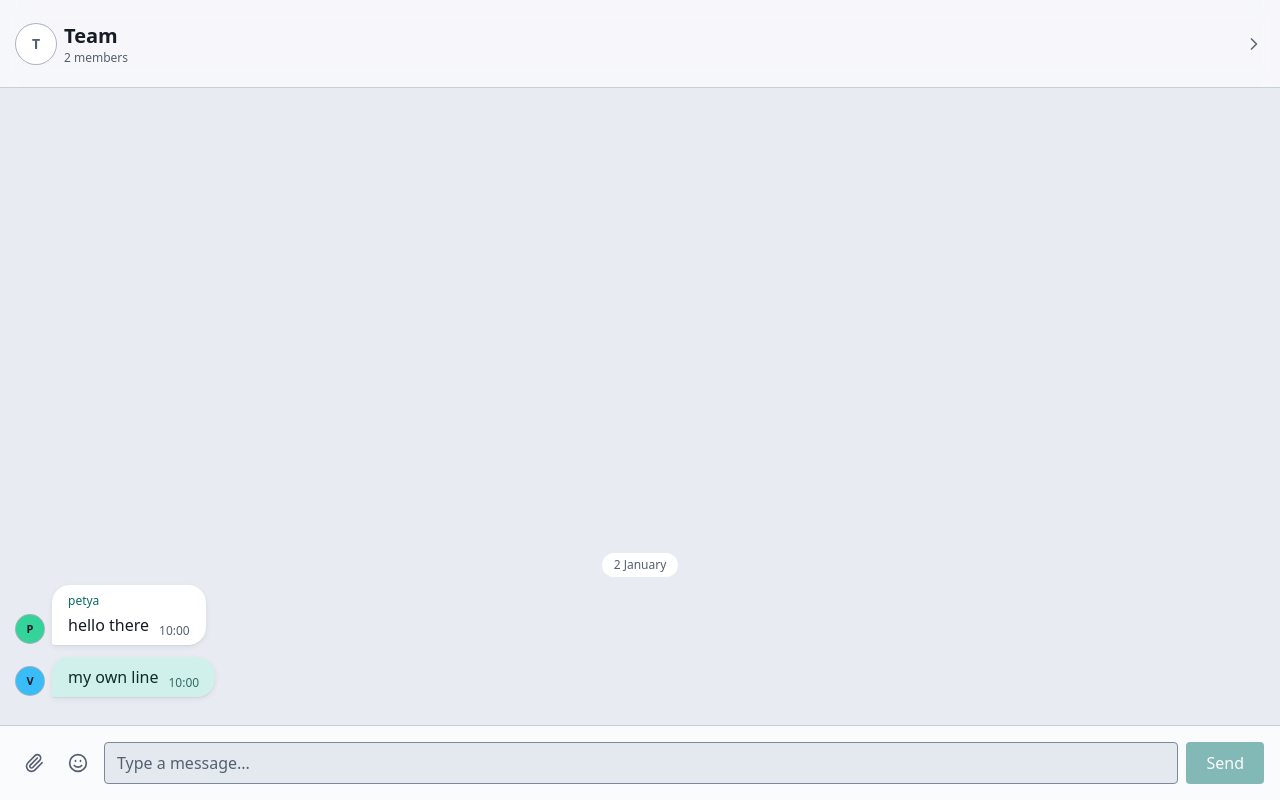
Scenario: ChatDetailPage › opens the chat info from the header
Step 1. Click the button "T Team 2 members" → (36, 44), box [8,22,1272,66]
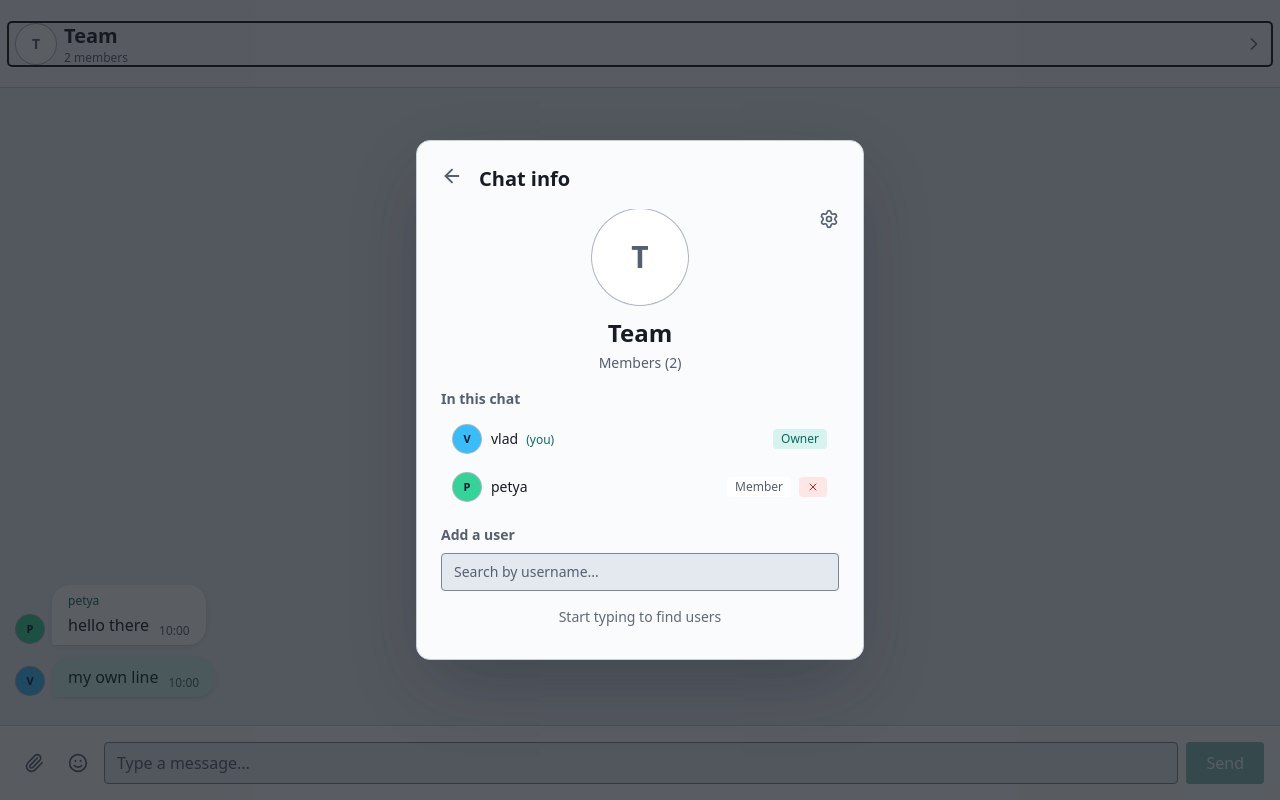
Expected: the heading "Team" is shown, [608,316,672,349]
